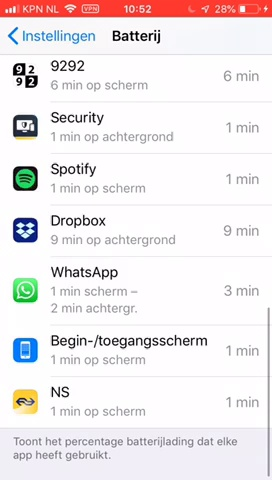app: (10, 264, 264, 318), (10, 109, 266, 148), (9, 160, 265, 199), (9, 209, 265, 248), (9, 332, 265, 371), (7, 56, 266, 94), (8, 383, 263, 421)
